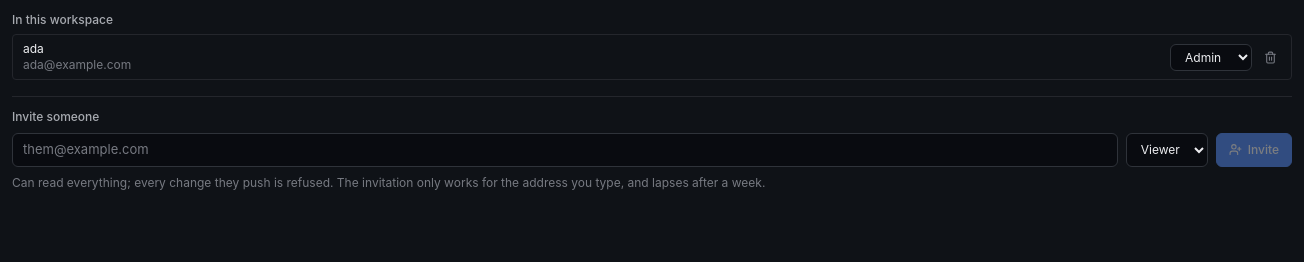
Test: MembersPanel › surfaces a refusal from the server
The image size is (1304, 262).
Step 1. Type "grace@example.com" into the field with placeholder "them@example.com" → (565, 150), box top-left (12, 133), bottom-right (1118, 166)
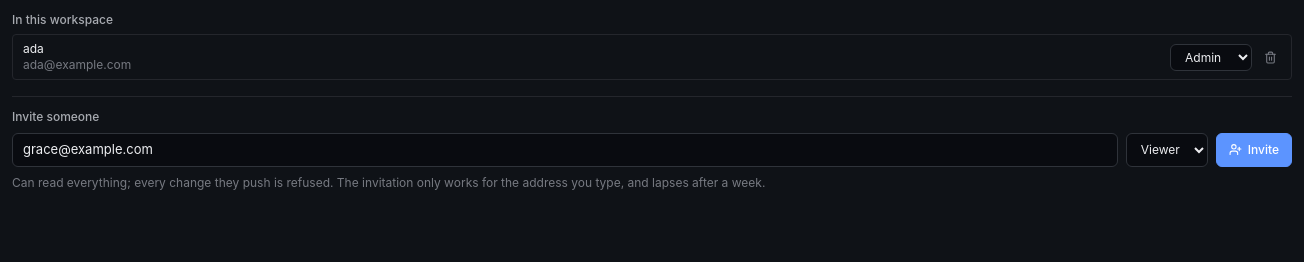
Step 2. Click the button "Invite" → (1254, 150), box top-left (1216, 133), bottom-right (1292, 166)
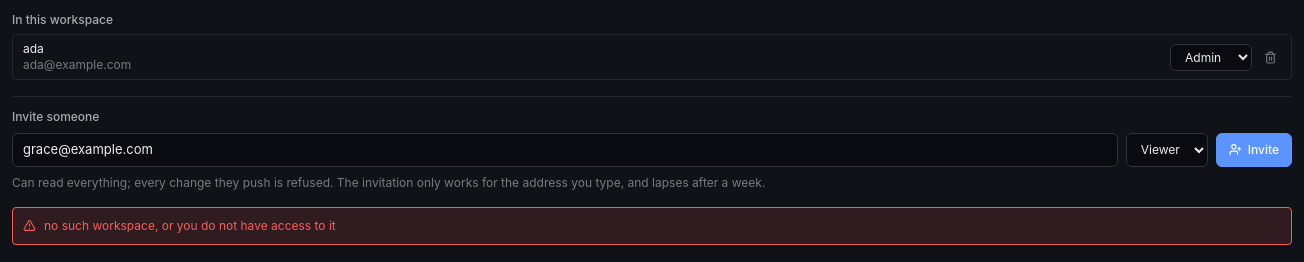
Expected: the text "do not have access" is shown, top-left (44, 218), bottom-right (336, 232)
